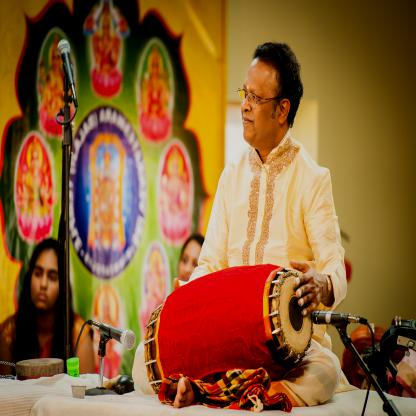Mridangam: (133, 265, 318, 404)
